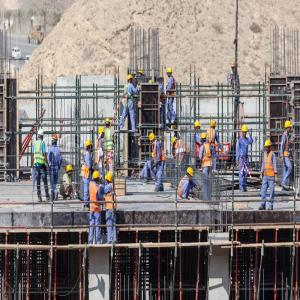white: (38, 129, 45, 141)
yellow: (242, 125, 249, 138), (285, 121, 292, 134), (87, 141, 94, 153), (107, 173, 114, 185), (188, 168, 195, 180), (266, 140, 273, 152), (100, 127, 106, 140), (67, 165, 74, 176), (167, 68, 174, 79), (150, 134, 157, 145), (94, 172, 100, 184), (195, 121, 202, 131), (52, 137, 59, 146), (212, 120, 218, 130), (139, 69, 145, 78), (173, 138, 179, 147), (201, 133, 207, 142), (106, 118, 111, 128), (129, 75, 134, 84), (232, 63, 236, 72)
